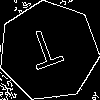T: (23, 26, 68, 79)
